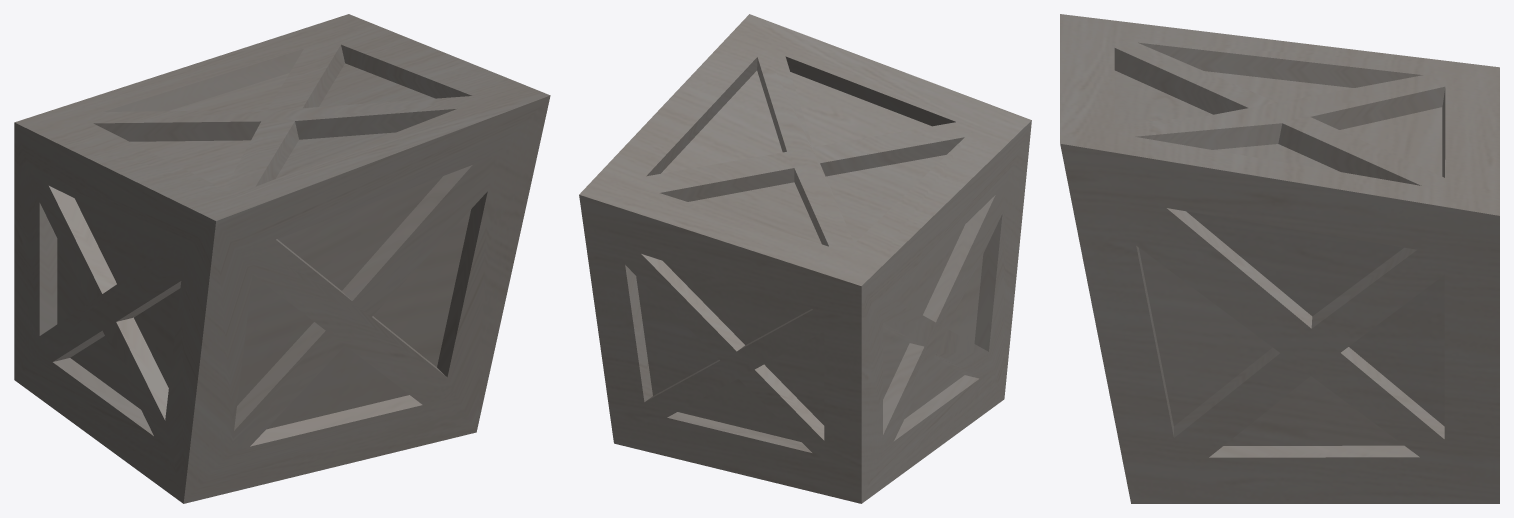
The model's file is Crate3.fbx.
3 renders of one model, left to right at view 1: azimuth 30°, elevation 25°; view 2: azimuth 150°, elevation 25°; view 3: azimuth 270°, elevation 25°, orthographic. The views are drawn at different scales.
Visible parts, largest first — view 1: pCube2; view 2: pCube2; view 3: pCube2.
Boxes of the visible parts, x1,y1,x2,y2 form: pCube2: (14, 14, 550, 503); pCube2: (579, 14, 1031, 503); pCube2: (1060, 14, 1499, 503).
Bounding box in the file's own units: 75.44 × 75.62 × 78.83.
